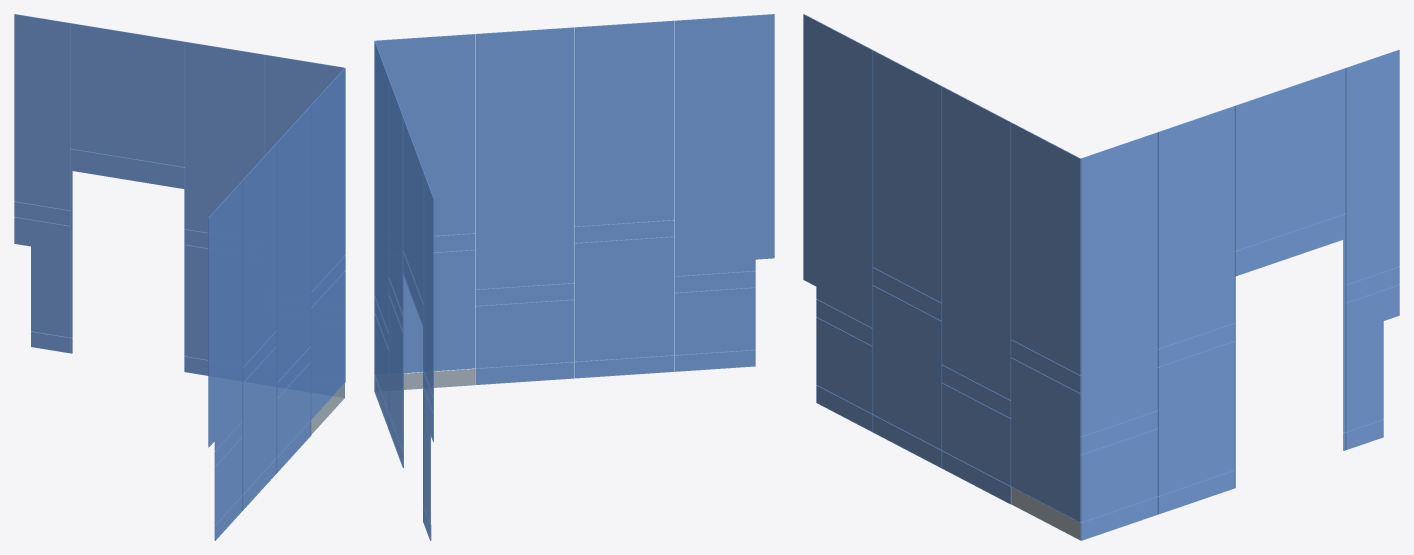
File: 1253_AR_AFP_BASE BUILDING_MASTER_malfredMXUZG_1AdpURx9v8fxrfh$v1SP8y-LEVEL 1 (CASINO GF)_IfcPlate.dae
3 views of the same model, side by side, from view 1: azimuth 30°, elevation 25°; view 2: azimuth 150°, elevation 25°; view 3: azimuth 270°, elevation 25° (orthographic). The views are drawn at different scales.
Parts seen in each view (by area): view 1: 39WNrjfvXBZ88Un3mH67k9, 1u0jUAnWvFuA8BrgPd3MVB, 1u0jUAnWvFuA8BrgPd3MV9, 1u0jUAnWvFuA8BrgPd3MIN, 1u0jUAnWvFuA8BrgPd3MNb, 1u0jUAnWvFuA8BrgPd3MJK, 1u0jUAnWvFuA8BrgPd3NjR, 0g0ovnDYTAUOFPK2sh4MW4, 1u0jUAnWvFuA8BrgPd3MTv, 0g0ovnDYTAUOFPK2sh4Ma7, 0g0ovnDYTAUOFPK2sh4Ma1, 0g0ovnDYTAUOFPK2sh4MWR (+13 smaller); view 2: 1u0jUAnWvFuA8BrgPd3MIN, 1u0jUAnWvFuA8BrgPd3MNb, 1u0jUAnWvFuA8BrgPd3NjR, 1u0jUAnWvFuA8BrgPd3MJK, 0g0ovnDYTAUOFPK2sh4Ma7, 0g0ovnDYTAUOFPK2sh4Ma0, 0g0ovnDYTAUOFPK2sh4Ma1, 0g0ovnDYTAUOFPK2sh4Ma6, 1u0jUAnWvFuA8BrgPd3MTv, 1u0jUAnWvFuA8BrgPd3MVB, 39WNrjfvXBZ88Un3mH67k9, 1u0jUAnWvFuA8BrgPd3MV9 (+12 smaller); view 3: 1u0jUAnWvFuA8BrgPd3MTv, 1u0jUAnWvFuA8BrgPd3MIN, 1u0jUAnWvFuA8BrgPd3MNb, 1u0jUAnWvFuA8BrgPd3MVB, 39WNrjfvXBZ88Un3mH67k9, 1u0jUAnWvFuA8BrgPd3MJK, 1u0jUAnWvFuA8BrgPd3NjR, 1u0jUAnWvFuA8BrgPd3MV9, 0g0ovnDYTAUOFPK2sh4MWQ, 0g0ovnDYTAUOFPK2sh4Ma1, 0g0ovnDYTAUOFPK2sh4Ma7, 0g0ovnDYTAUOFPK2sh4MW4 (+18 smaller).
Boxes of the visible parts, bbox=[...] form: 39WNrjfvXBZ88Un3mH67k9: bbox=[70, 23, 184, 167]; 1u0jUAnWvFuA8BrgPd3MVB: bbox=[185, 41, 264, 232]; 1u0jUAnWvFuA8BrgPd3MV9: bbox=[14, 14, 70, 210]; 1u0jUAnWvFuA8BrgPd3MIN: bbox=[276, 105, 311, 382]; 1u0jUAnWvFuA8BrgPd3MNb: bbox=[208, 180, 242, 450]; 1u0jUAnWvFuA8BrgPd3MJK: bbox=[310, 68, 345, 292]; 1u0jUAnWvFuA8BrgPd3NjR: bbox=[242, 143, 277, 367]; 0g0ovnDYTAUOFPK2sh4MW4: bbox=[14, 217, 70, 337]; 1u0jUAnWvFuA8BrgPd3MTv: bbox=[265, 54, 344, 155]; 0g0ovnDYTAUOFPK2sh4Ma7: bbox=[243, 346, 277, 494]; 0g0ovnDYTAUOFPK2sh4Ma1: bbox=[311, 271, 345, 419]; 0g0ovnDYTAUOFPK2sh4MWR: bbox=[70, 149, 184, 356]; 1u0jUAnWvFuA8BrgPd3MIN: bbox=[475, 27, 574, 289]; 1u0jUAnWvFuA8BrgPd3MNb: bbox=[675, 14, 774, 276]; 1u0jUAnWvFuA8BrgPd3NjR: bbox=[575, 20, 674, 226]; 1u0jUAnWvFuA8BrgPd3MJK: bbox=[375, 34, 474, 235]; 0g0ovnDYTAUOFPK2sh4Ma7: bbox=[575, 236, 674, 361]; 0g0ovnDYTAUOFPK2sh4Ma0: bbox=[475, 299, 574, 368]; 0g0ovnDYTAUOFPK2sh4Ma1: bbox=[404, 250, 474, 373]; 0g0ovnDYTAUOFPK2sh4Ma6: bbox=[675, 287, 755, 355]; 1u0jUAnWvFuA8BrgPd3MTv: bbox=[374, 41, 389, 333]; 1u0jUAnWvFuA8BrgPd3MVB: bbox=[388, 79, 403, 315]; 39WNrjfvXBZ88Un3mH67k9: bbox=[403, 117, 423, 304]; 1u0jUAnWvFuA8BrgPd3MV9: bbox=[423, 171, 433, 396]; 1u0jUAnWvFuA8BrgPd3MTv: bbox=[1080, 132, 1157, 436]; 1u0jUAnWvFuA8BrgPd3MIN: bbox=[941, 86, 1011, 400]; 1u0jUAnWvFuA8BrgPd3MNb: bbox=[803, 14, 872, 328]; 1u0jUAnWvFuA8BrgPd3MVB: bbox=[1158, 106, 1235, 348]; 39WNrjfvXBZ88Un3mH67k9: bbox=[1235, 68, 1345, 250]; 1u0jUAnWvFuA8BrgPd3MJK: bbox=[1011, 122, 1080, 375]; 1u0jUAnWvFuA8BrgPd3NjR: bbox=[872, 50, 942, 302]; 1u0jUAnWvFuA8BrgPd3MV9: bbox=[1346, 50, 1399, 284]; 0g0ovnDYTAUOFPK2sh4MWQ: bbox=[1158, 341, 1235, 496]; 0g0ovnDYTAUOFPK2sh4Ma1: bbox=[1011, 358, 1080, 522]; 0g0ovnDYTAUOFPK2sh4Ma7: bbox=[872, 285, 941, 449]; 0g0ovnDYTAUOFPK2sh4MW4: bbox=[1346, 285, 1399, 431].
Bounding box in the file's own units: 3.8 × 6.61 × 4.67.
